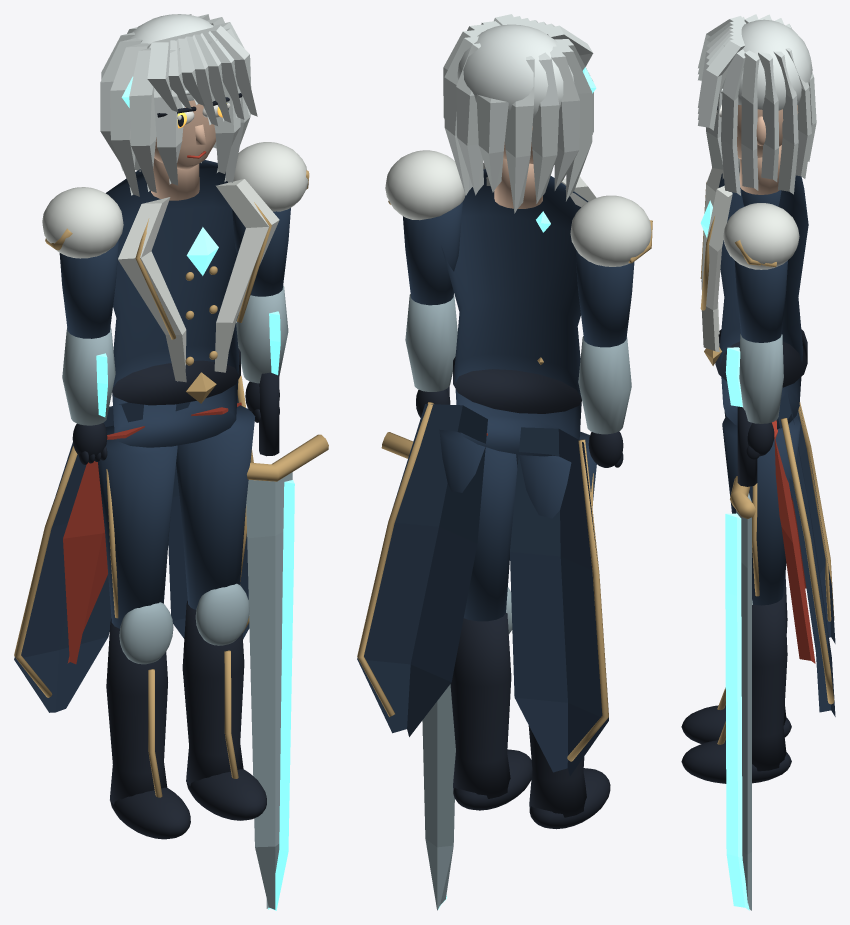
File: rei.glb
3 renders of one model, left to right at view 1: azimuth 30°, elevation 25°; view 2: azimuth 150°, elevation 25°; view 3: azimuth 270°, elevation 25°, orthographic. The views are drawn at different scales.
Parts seen in each view (by area): view 1: belt clasp, asymmetric fringe, crossguard, coat lining, boot gold rail, boot gold rail.001, fitted trousers, fitted trousers.001, pauldron.001, shoulder edge.001, finger.001, finger.005 (+1 smaller); view 2: belt clasp, coat lining.001, coat lining, asymmetric fringe, boot gold rail.001, pauldron.001, shoulder edge.001, fitted trousers.001, crossguard, finger.001, finger.005, boot gold rail (+1 smaller); view 3: asymmetric fringe, crossguard, belt clasp, coat lining.001, boot gold rail.001, shoulder edge.001, fitted trousers.001, finger.005, coat lining, boot gold rail, pauldron.001.
Boxes of the visible parts, x1,y1,x2,y2 form: belt clasp: (106, 158, 279, 447); asymmetric fringe: (100, 14, 257, 196); crossguard: (246, 370, 328, 910); coat lining: (14, 402, 144, 712); boot gold rail: (106, 602, 190, 839); boot gold rail.001: (182, 583, 266, 820); fitted trousers: (98, 425, 177, 628); fitted trousers.001: (176, 405, 255, 609); pauldron.001: (42, 187, 123, 338); shoulder edge.001: (227, 142, 309, 296); finger.001: (62, 327, 115, 464); finger.005: (236, 285, 288, 422); belt clasp: (441, 158, 596, 456); coat lining.001: (357, 402, 487, 736); coat lining: (510, 427, 608, 775); asymmetric fringe: (443, 14, 596, 213); boot gold rail.001: (450, 587, 532, 810); pauldron.001: (570, 195, 652, 347); shoulder edge.001: (385, 150, 465, 305); fitted trousers.001: (439, 429, 517, 621); crossguard: (381, 386, 455, 910); finger.001: (578, 336, 631, 467); finger.005: (405, 294, 457, 417); boot gold rail: (528, 725, 610, 829); asymmetric fringe: (698, 14, 816, 195); crossguard: (725, 406, 757, 910); belt clasp: (700, 145, 808, 429); coat lining.001: (772, 392, 835, 716); boot gold rail.001: (681, 592, 791, 783); shoulder edge.001: (723, 203, 799, 342); fitted trousers.001: (722, 416, 800, 605); finger.005: (725, 334, 783, 459); coat lining: (792, 402, 835, 643); boot gold rail: (681, 574, 791, 743); pauldron.001: (738, 158, 781, 206).
Size of the model in its own units: 0.8016 by 2.57 by 0.424.
